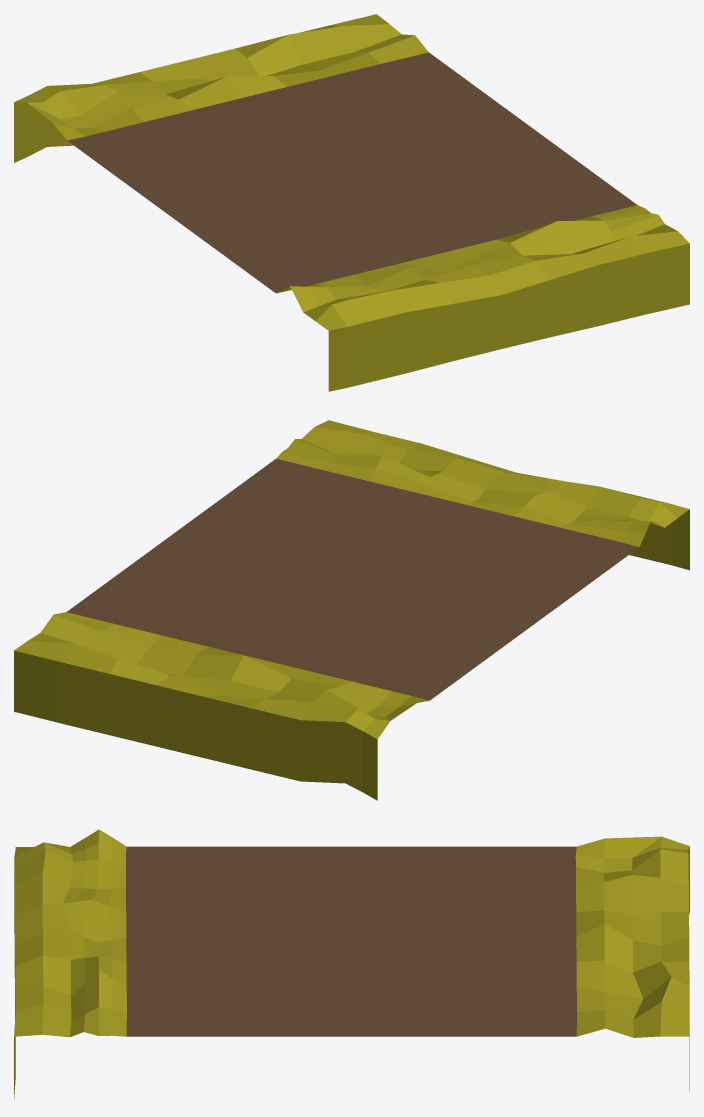
File: todo mundo pro chico pequeno.fbx
The picture shows the model from 3 angles, top to bottom: view 1: azimuth 30°, elevation 25°; view 2: azimuth 150°, elevation 25°; view 3: azimuth 270°, elevation 25°; orthographic projection. The views are drawn at different scales.
Parts seen in each view (by area): view 1: Plano.002; view 2: Plano.002; view 3: Plano.002.
Part boxes in pixels (x1,y1,x2,y2): Plano.002: [14, 14, 689, 391]; Plano.002: [14, 420, 689, 800]; Plano.002: [14, 829, 689, 1099].
Size of the model in its own units: 402 by 81.84 by 601.
1 material, 1 textured.
